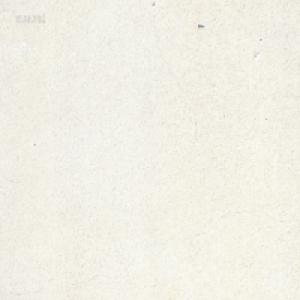Nail: (198, 23, 204, 28)
